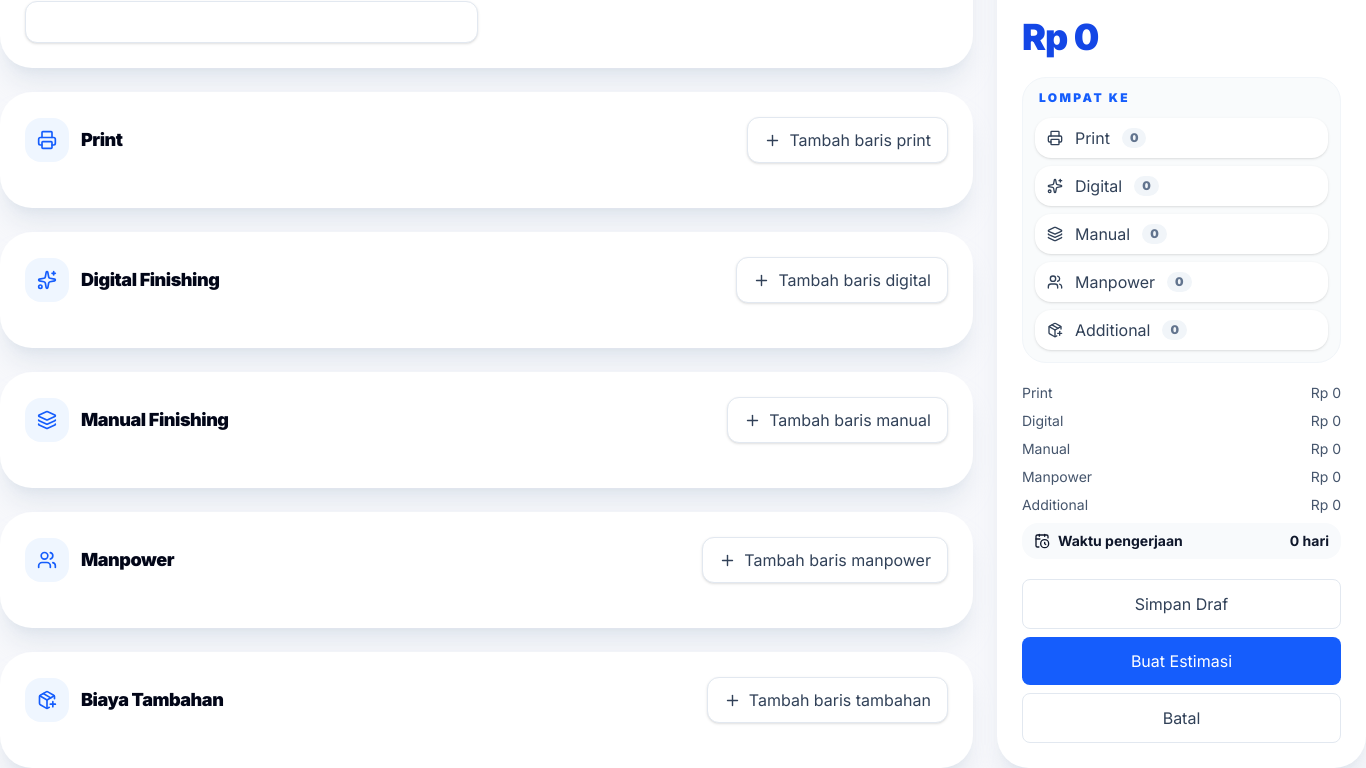
it: EstimationView › shows quantity and uses it for a manual additional cost
(page scrolled)
Click the button "Tambah baris tambahan": (827, 700) [707, 677, 948, 723]
(page scrolled)
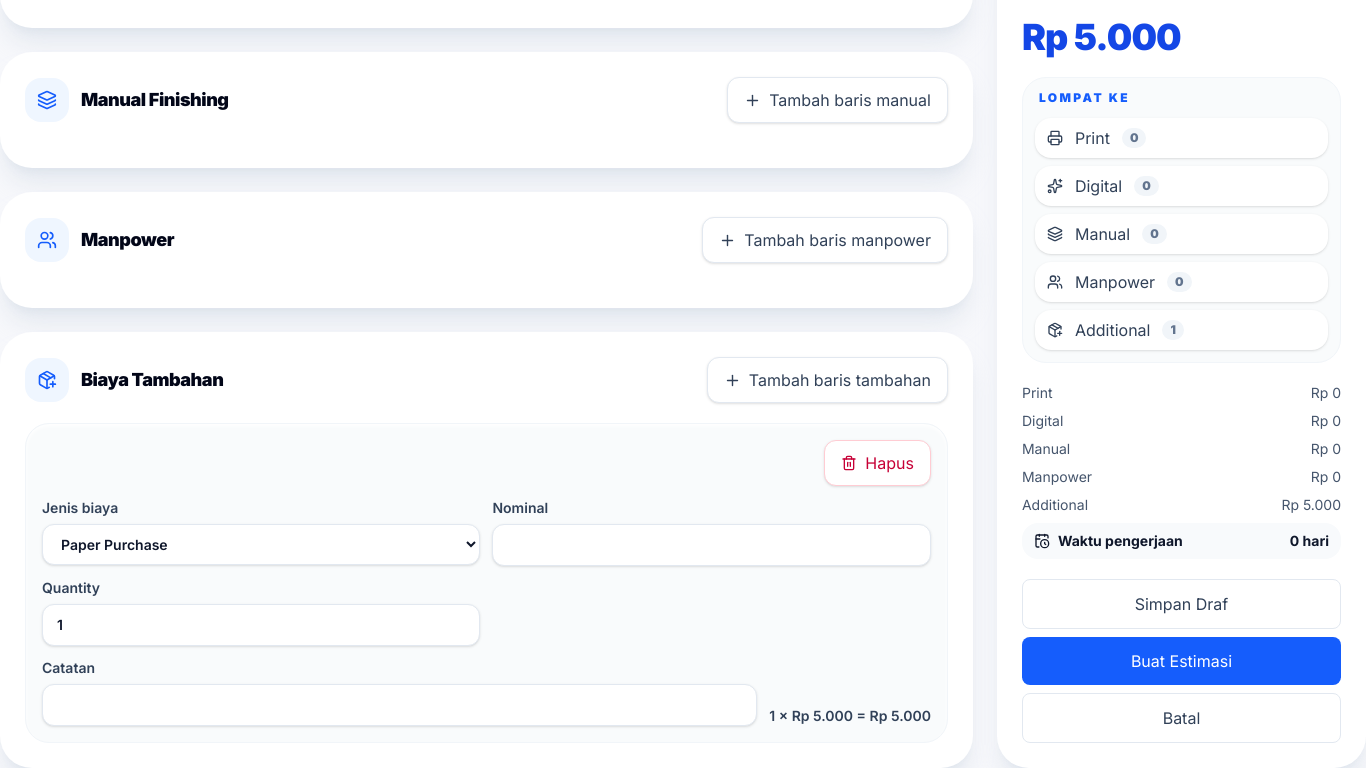
Select "Operator Fee" in the dropdown labelled "Jenis biaya": (261, 544) [42, 524, 480, 565]
(page scrolled)
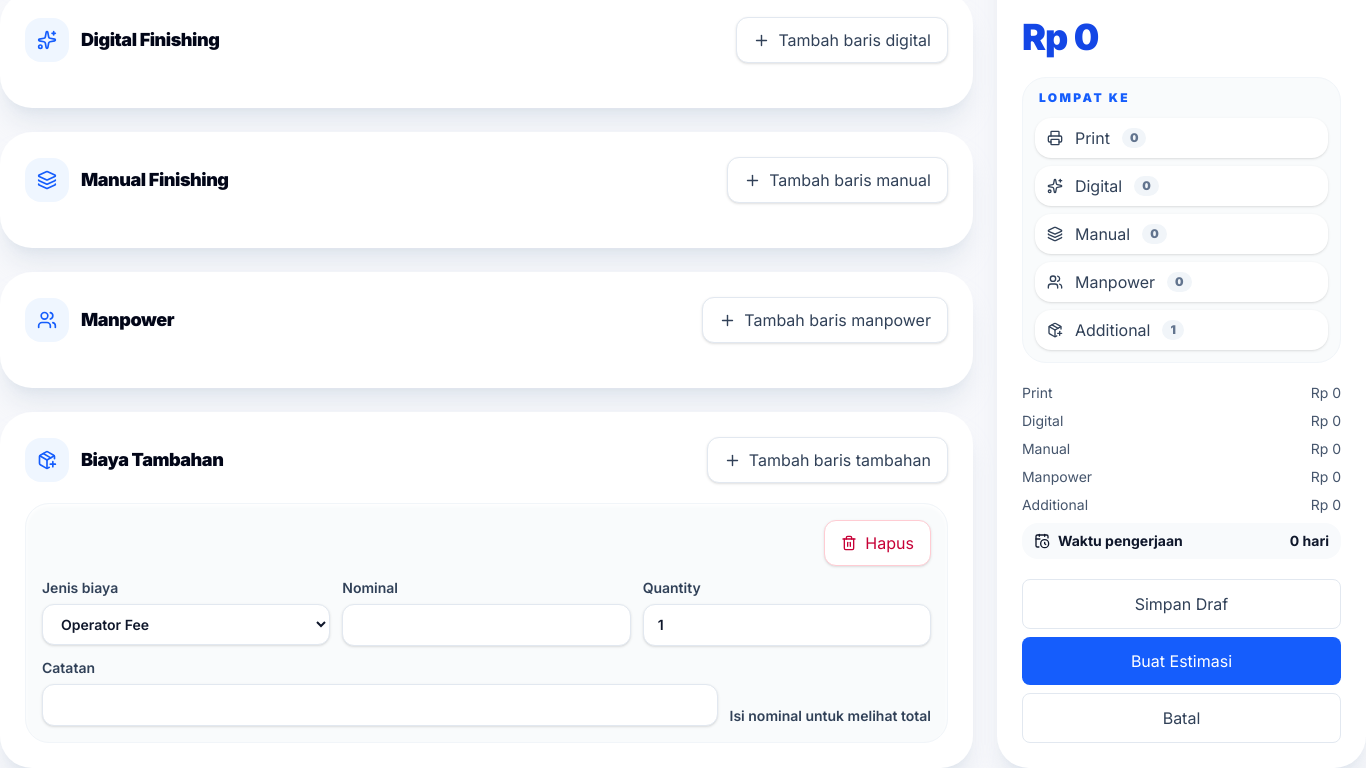
In the field labelled "Nominal": (486, 625) [342, 604, 631, 646], type "45000"
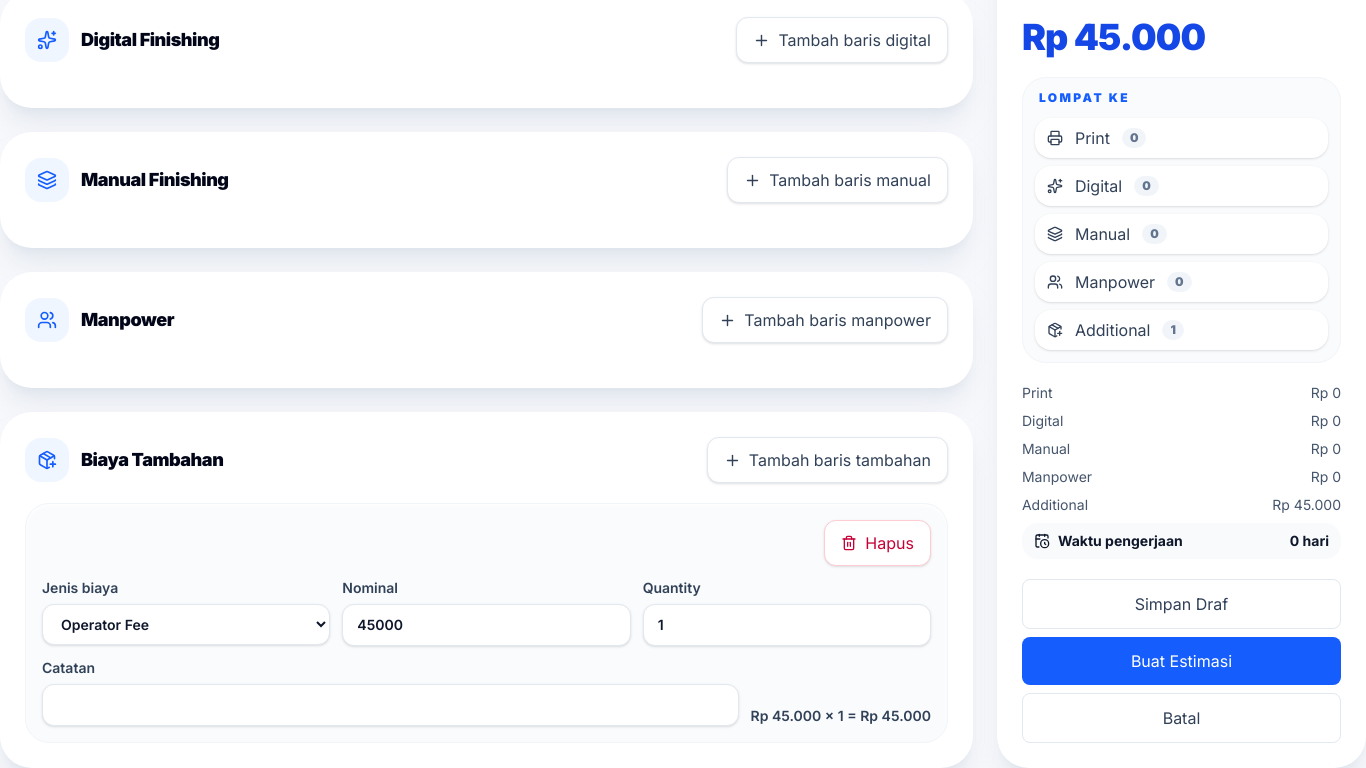
Replace the text in the number field labelled "Quantity" with "2": (787, 625) [643, 604, 931, 646]
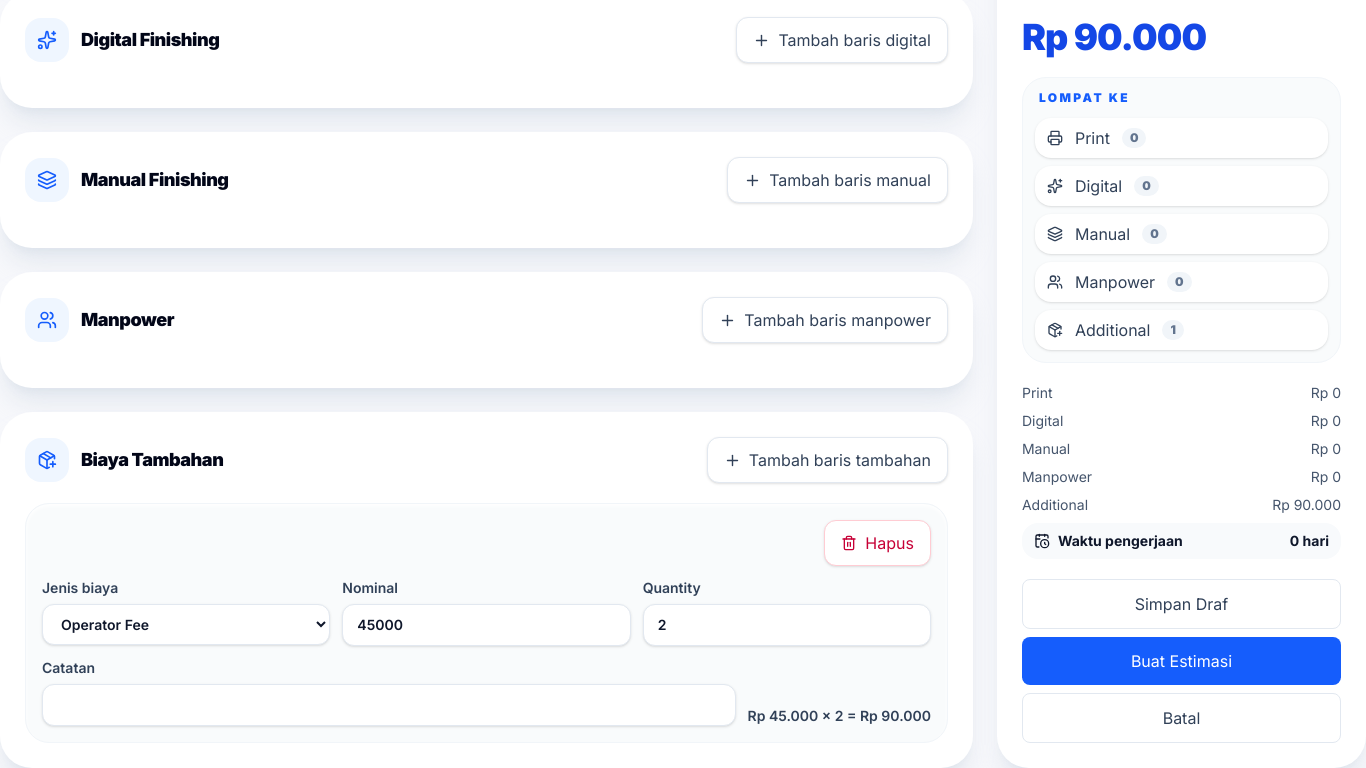
Expected: the text "Rp 45.000 × 2 = Rp 90.000" is shown, [748, 706, 931, 726]
